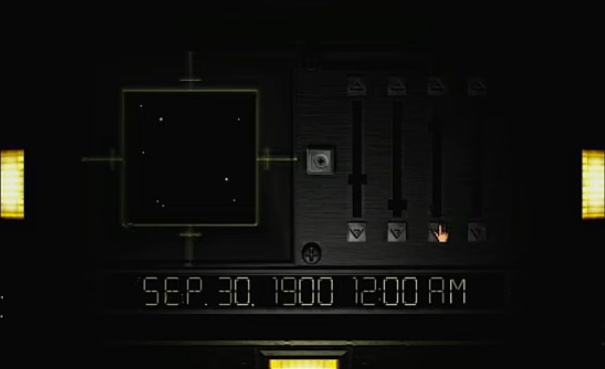Pointer: (430, 221, 453, 244)
